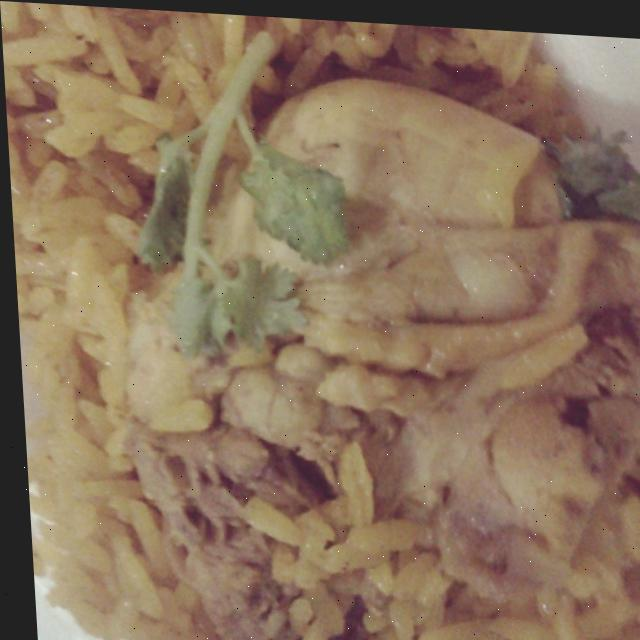米饭主食: (14, 18, 640, 640)
